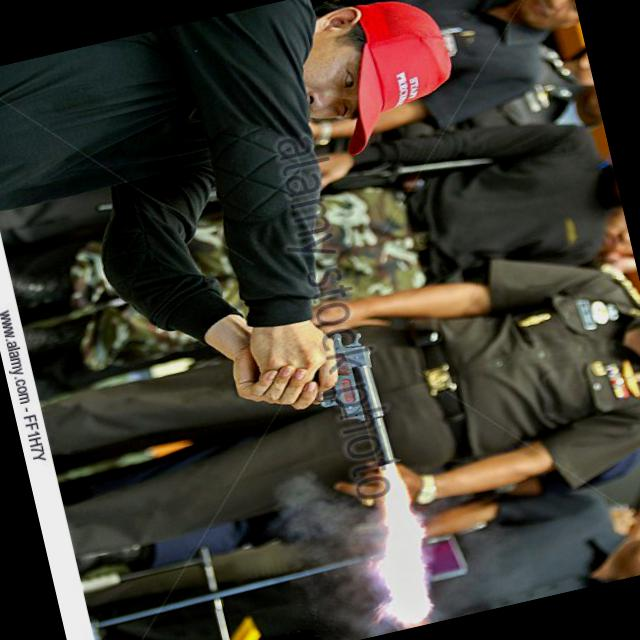handgun: (239, 322, 407, 501)
